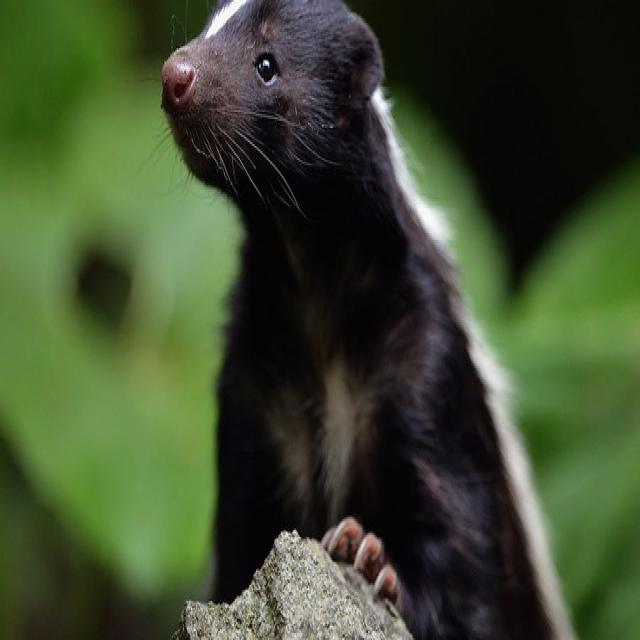Skunk: (172, 0, 586, 640)
